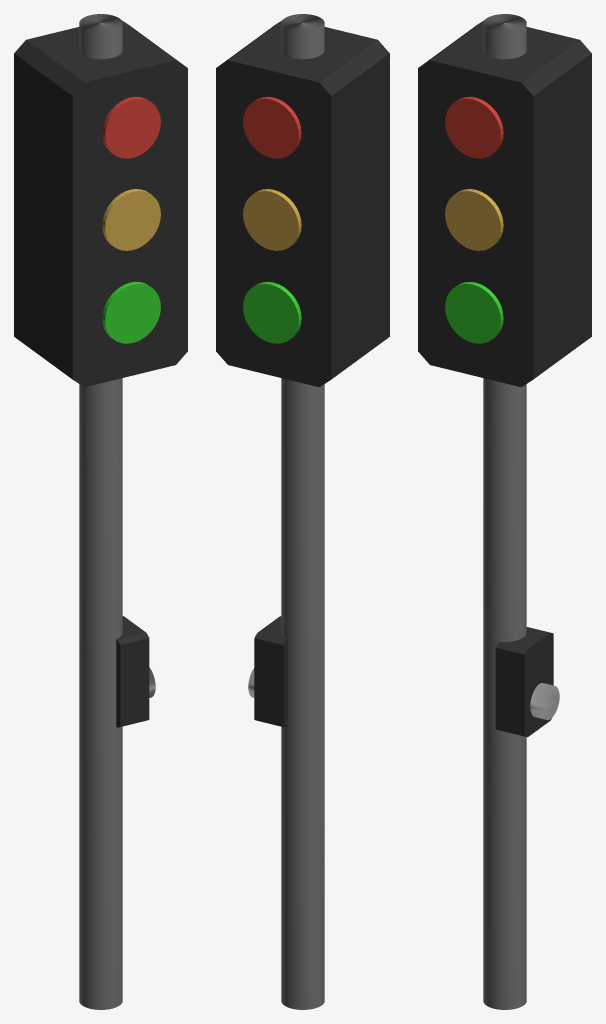
The model's file is traffic light.fbx.
3 views of the same model, side by side, from view 1: azimuth 30°, elevation 25°; view 2: azimuth 150°, elevation 25°; view 3: azimuth 330°, elevation 25° (orthographic).
Visible parts, largest first — view 1: Cylinder; view 2: Cylinder; view 3: Cylinder.
Boxes of the visible parts, x1,y1,x2,y2 form: Cylinder: [14, 14, 187, 1009]; Cylinder: [216, 14, 389, 1009]; Cylinder: [418, 14, 591, 1009].
Size of the model in its own units: 182 by 1475 by 175.
